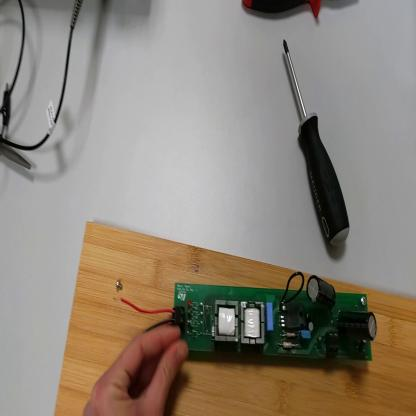hand: (86, 329, 188, 415)
high voltage board: (116, 272, 379, 363)
oscilloscope probe tip: (2, 144, 33, 181)
pliers: (242, 1, 364, 19)
screwdriver-: (284, 33, 347, 254)
working area: (57, 224, 416, 416)
